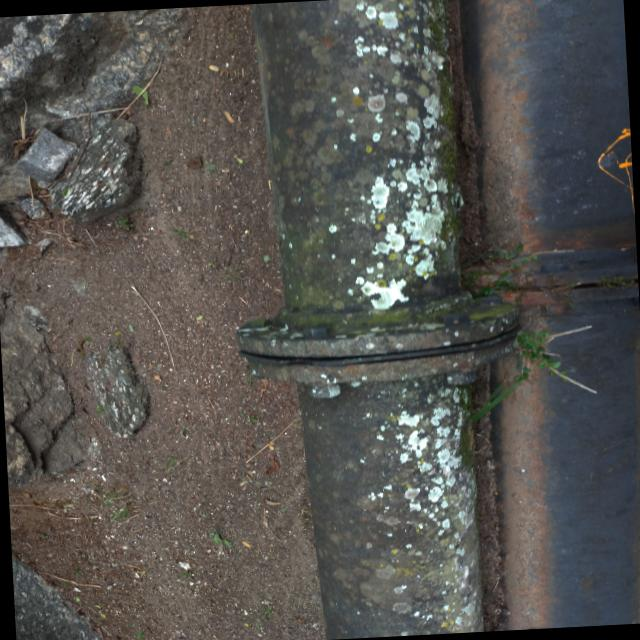gas: (257, 0, 490, 639)
